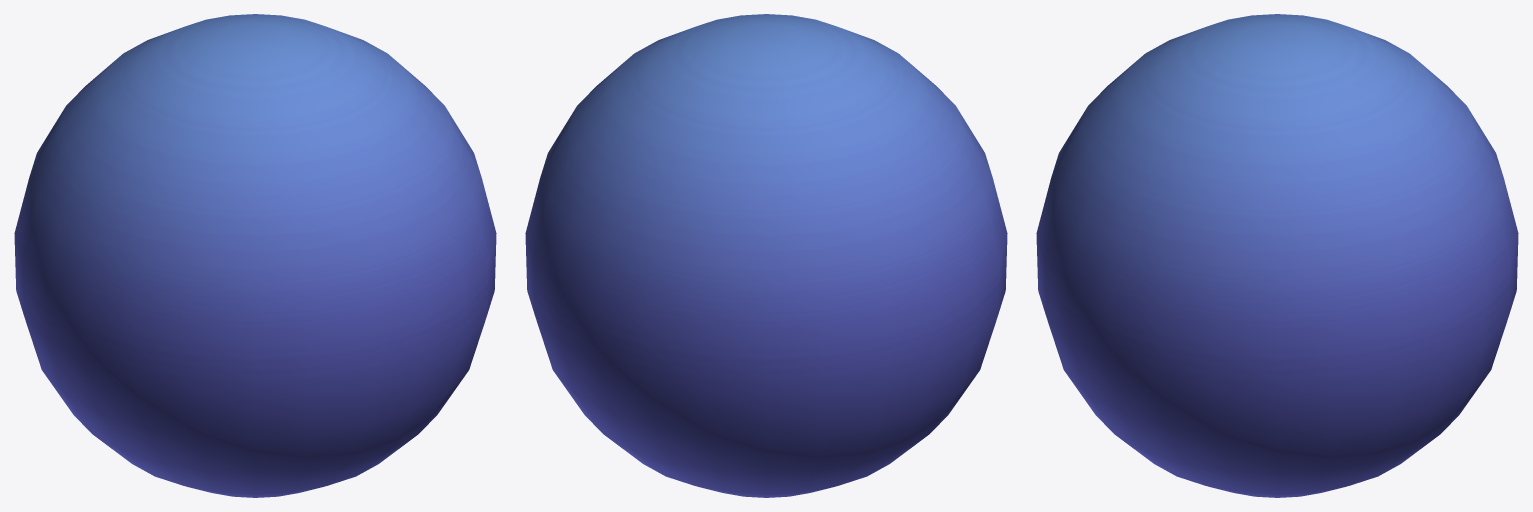
Rendered from ball-blue.fbx.
3 renders of one model, left to right at view 1: azimuth 30°, elevation 25°; view 2: azimuth 150°, elevation 25°; view 3: azimuth 270°, elevation 25°, orthographic.
Parts seen in each view (by area): view 1: ball_blue; view 2: ball_blue; view 3: ball_blue.
Part boxes in pixels (x1=…): ball_blue: x1=14, y1=14, x2=496, y2=497; ball_blue: x1=525, y1=14, x2=1007, y2=497; ball_blue: x1=1036, y1=14, x2=1518, y2=497.
Bounding box in the file's own units: 6.99 × 6.98 × 6.99.
